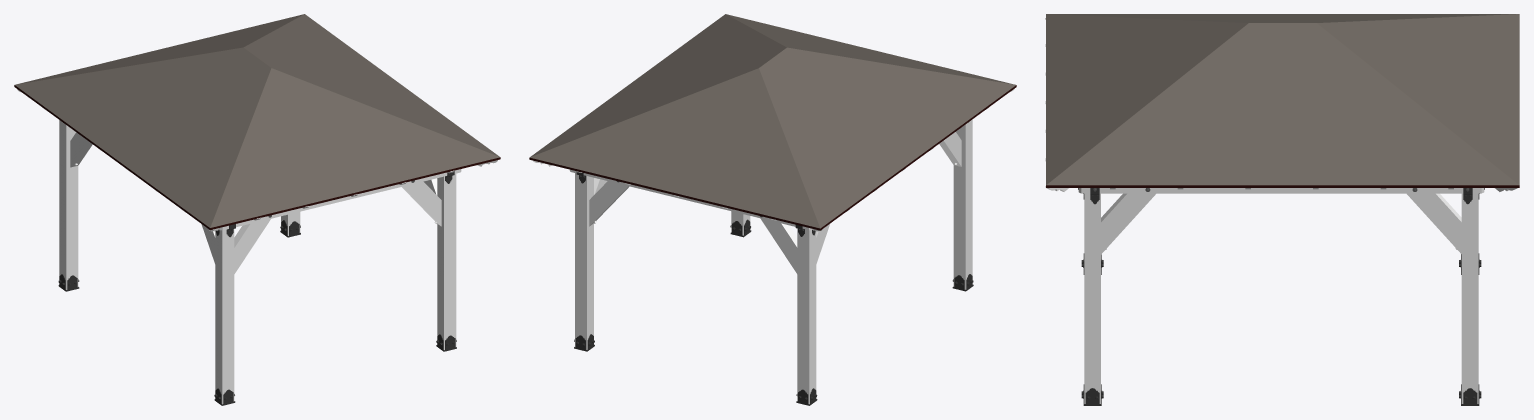
The model's file is saratoga-12x14-classic.obj.
3 views of the same model, side by side, from view 1: azimuth 30°, elevation 25°; view 2: azimuth 150°, elevation 25°; view 3: azimuth 270°, elevation 25° (orthographic). The views are drawn at different scales.
Parts seen in each view (by area): view 1: Mesh228 shingles roof Group1 Model, Mesh179 Group72 Component_92_4 Group1 Model, Mesh81 Group44 Component_92_2 Group1 Model, Mesh130 Group58 Component_92_3 Group1 Model, Mesh229 roof Group1 Model, Mesh77 Component_135_1 Group1 Model, Mesh219 Component_91_7 Component_92_4 Group1 Model, Mesh121 Component_91_3 Component_92_2 Group1 Model, Mesh174 Component_91_6 Component_92_3 Group1 Model; view 2: Mesh228 shingles roof Group1 Model, Mesh130 Group58 Component_92_3 Group1 Model, Mesh1 Group3 Component_92_1 Group2 Group1 Model, Mesh179 Group72 Component_92_4 Group1 Model, Mesh229 roof Group1 Model, Mesh170 Component_91_5 Component_92_3 Group1 Model, Mesh41 Component_91_1 Component_92_1 Group2 Group1 Model, Mesh79 Component_135_2 Group1 Model, Mesh223 Component_91_8 Component_92_4 Group1 Model; view 3: Mesh228 shingles roof Group1 Model, Mesh1 Group3 Component_92_1 Group2 Group1 Model, Mesh81 Group44 Component_92_2 Group1 Model, Mesh80 Component_134_2 Group1 Model, Mesh45 Component_91_2 Component_92_1 Group2 Group1 Model, Mesh125 Component_91_4 Component_92_2 Group1 Model, Mesh229 roof Group1 Model.
Boxes of the visible parts, x1=… form: Mesh228 shingles roof Group1 Model: x1=15, y1=14, x2=499, y2=227; Mesh179 Group72 Component_92_4 Group1 Model: x1=215, y1=229, x2=234, y2=404; Mesh81 Group44 Component_92_2 Group1 Model: x1=437, y1=173, x2=456, y2=349; Mesh130 Group58 Component_92_3 Group1 Model: x1=59, y1=120, x2=78, y2=289; Mesh229 roof Group1 Model: x1=14, y1=85, x2=500, y2=230; Mesh77 Component_135_1 Group1 Model: x1=218, y1=169, x2=461, y2=230; Mesh219 Component_91_7 Component_92_4 Group1 Model: x1=234, y1=219, x2=270, y2=273; Mesh121 Component_91_3 Component_92_2 Group1 Model: x1=402, y1=181, x2=441, y2=226; Mesh174 Component_91_6 Component_92_3 Group1 Model: x1=70, y1=132, x2=92, y2=167; Mesh228 shingles roof Group1 Model: x1=530, y1=14, x2=1015, y2=228; Mesh130 Group58 Component_92_3 Group1 Model: x1=797, y1=228, x2=816, y2=404; Mesh1 Group3 Component_92_1 Group2 Group1 Model: x1=575, y1=173, x2=593, y2=349; Mesh179 Group72 Component_92_4 Group1 Model: x1=953, y1=119, x2=972, y2=289; Mesh229 roof Group1 Model: x1=529, y1=85, x2=1016, y2=230; Mesh170 Component_91_5 Component_92_3 Group1 Model: x1=760, y1=218, x2=797, y2=273; Mesh41 Component_91_1 Component_92_1 Group2 Group1 Model: x1=589, y1=181, x2=629, y2=226; Mesh79 Component_135_2 Group1 Model: x1=569, y1=169, x2=812, y2=229; Mesh223 Component_91_8 Component_92_4 Group1 Model: x1=939, y1=132, x2=961, y2=166; Mesh228 shingles roof Group1 Model: x1=1046, y1=14, x2=1519, y2=185; Mesh1 Group3 Component_92_1 Group2 Group1 Model: x1=1461, y1=193, x2=1478, y2=403; Mesh81 Group44 Component_92_2 Group1 Model: x1=1084, y1=193, x2=1100, y2=403; Mesh80 Component_134_2 Group1 Model: x1=1090, y1=188, x2=1472, y2=193; Mesh45 Component_91_2 Component_92_1 Group2 Group1 Model: x1=1407, y1=193, x2=1461, y2=253; Mesh125 Component_91_4 Component_92_2 Group1 Model: x1=1101, y1=193, x2=1155, y2=254; Mesh229 roof Group1 Model: x1=1046, y1=185, x2=1519, y2=187.
Bounding box in the file's own units: 144 × 123 × 168.
